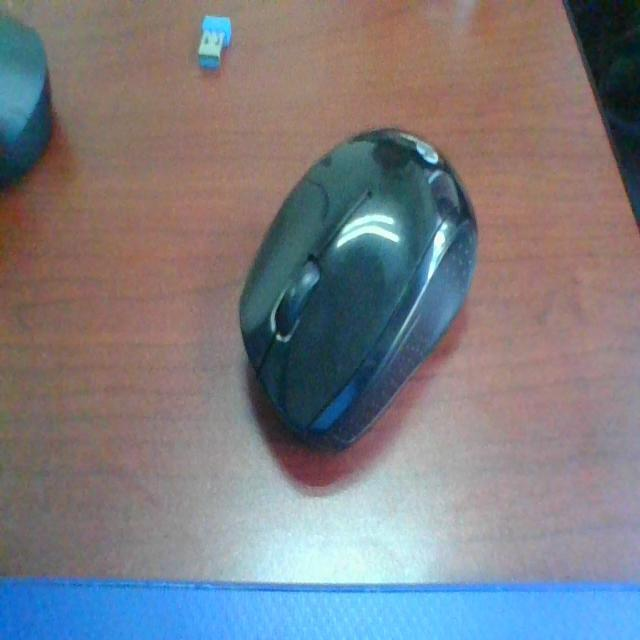mouse: (240, 108, 510, 511)
